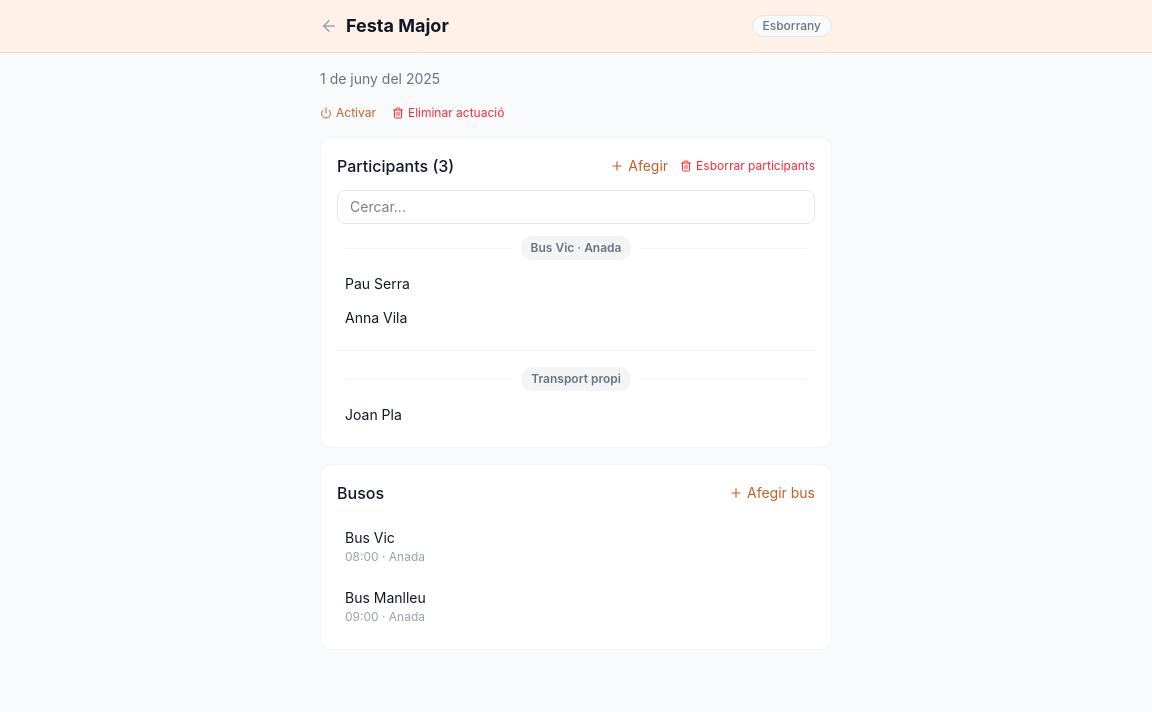
EventAdmin - capçalera › activa l'event i actualitza l'estat
Click the button "Activar".
click(348, 113)  # box [320,105,376,121]
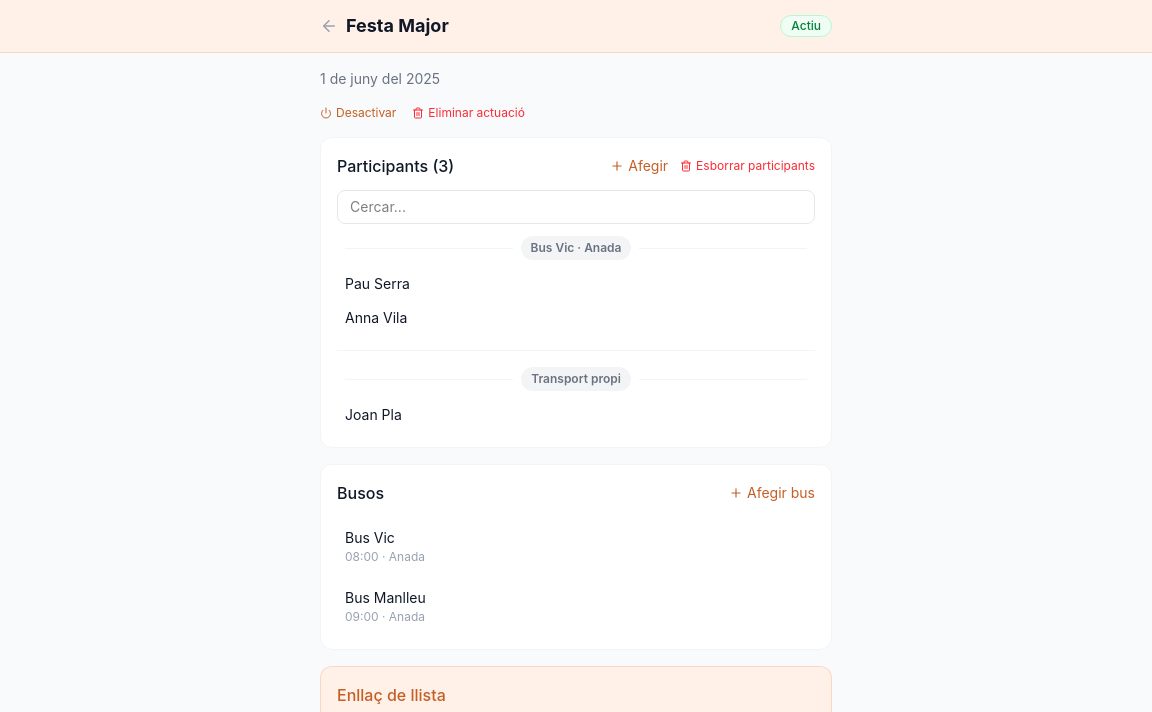
expect the text "Actiu" is shown: met, box [780,15,832,37]
